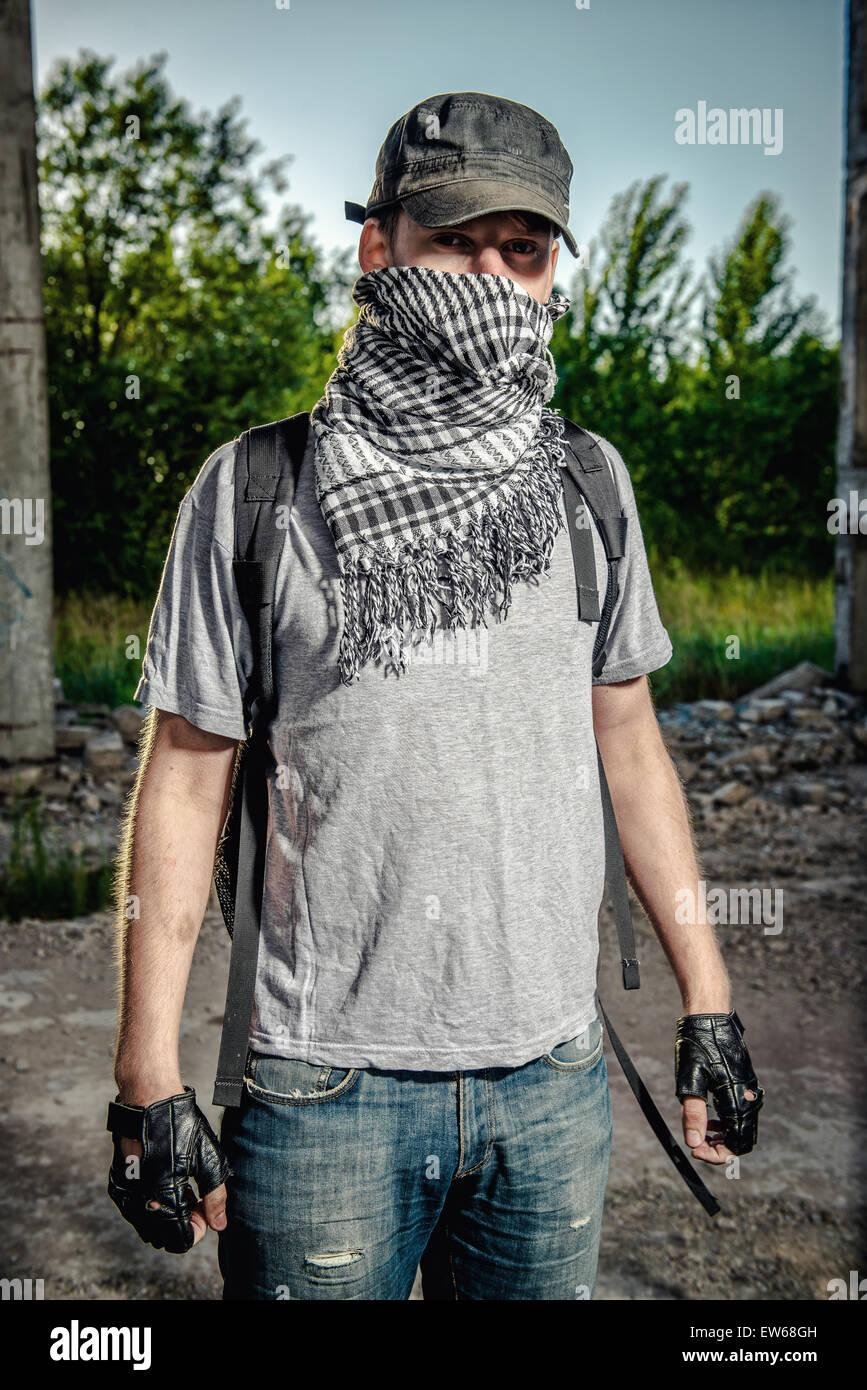cap: (337, 47, 620, 270)
scarf-kerchief: (317, 250, 583, 567)
